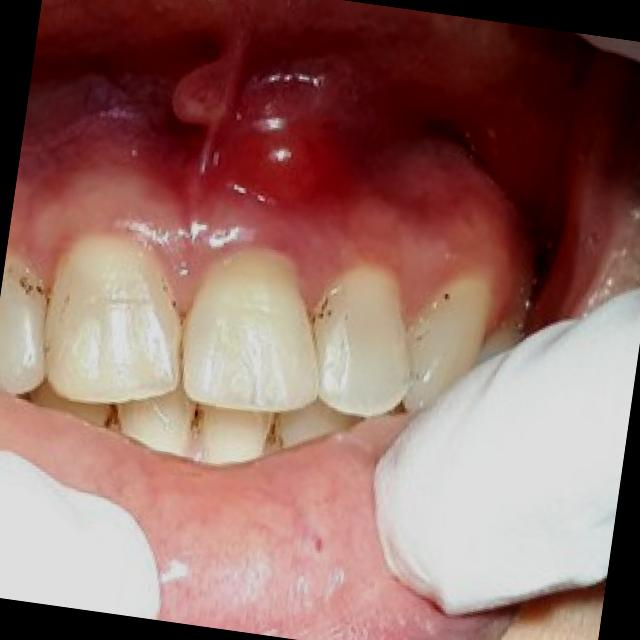abscess: (202, 65, 378, 218)
